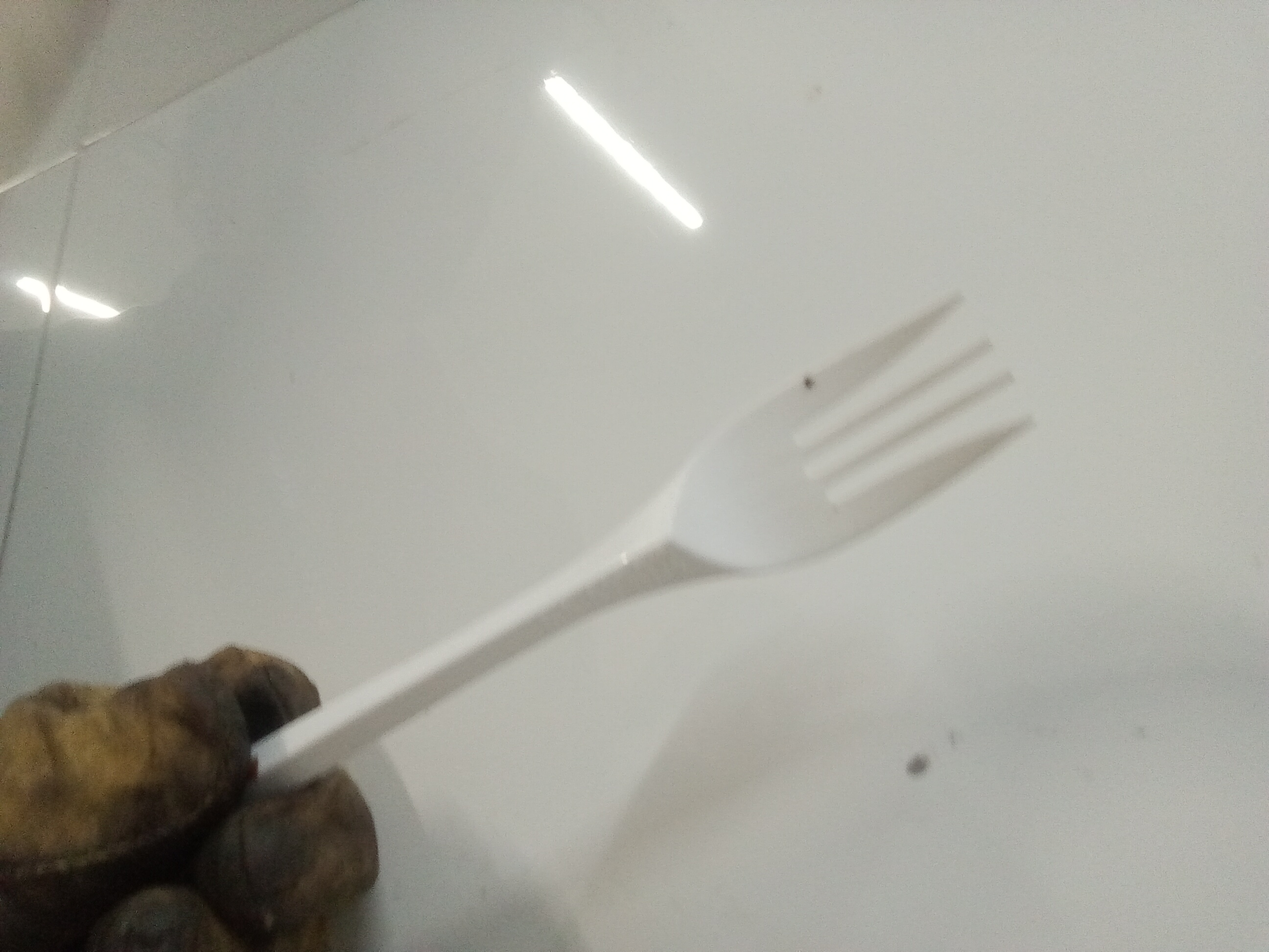Ordinario: (251, 292, 1029, 805)
